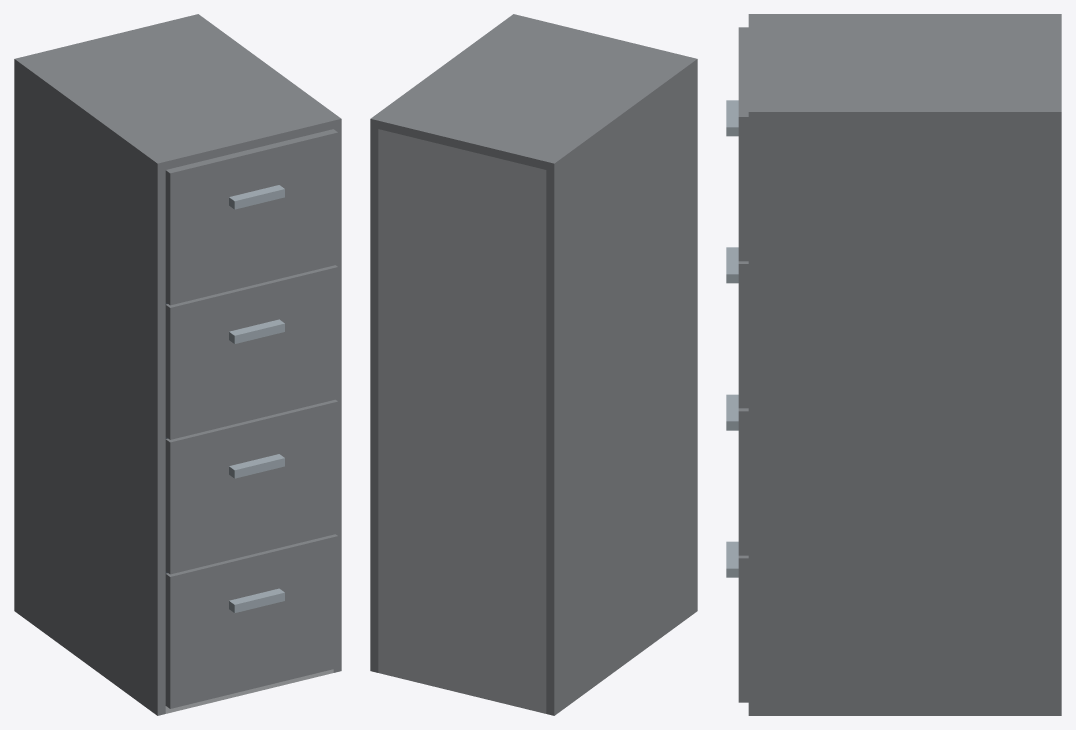
File: GO_FilingCabinet_01.glb
3 renders of one model, left to right at view 1: azimuth 30°, elevation 25°; view 2: azimuth 150°, elevation 25°; view 3: azimuth 270°, elevation 25°, orthographic. The views are drawn at different scales.
Visible parts, largest first — view 1: GO_FilingCabinet_01, Drawer4, Drawer3, Drawer2, Drawer1; view 2: GO_FilingCabinet_01; view 3: GO_FilingCabinet_01, Drawer4, Drawer1, Drawer2, Drawer3.
Boxes of the visible parts, box(x1,y1,x2,y2) form: GO_FilingCabinet_01: box(14, 14, 341, 715); Drawer4: box(165, 129, 337, 305); Drawer3: box(165, 265, 337, 439); Drawer2: box(165, 399, 337, 574); Drawer1: box(165, 534, 337, 708); GO_FilingCabinet_01: box(370, 14, 697, 715); GO_FilingCabinet_01: box(748, 14, 1061, 715); Drawer4: box(726, 27, 748, 261); Drawer1: box(726, 541, 748, 702); Drawer2: box(726, 394, 748, 555); Drawer3: box(726, 247, 748, 408).
Bounding box in the file's own units: 0.46 × 1.32 × 0.6645.
Materials: 1 (1 with a texture image).
